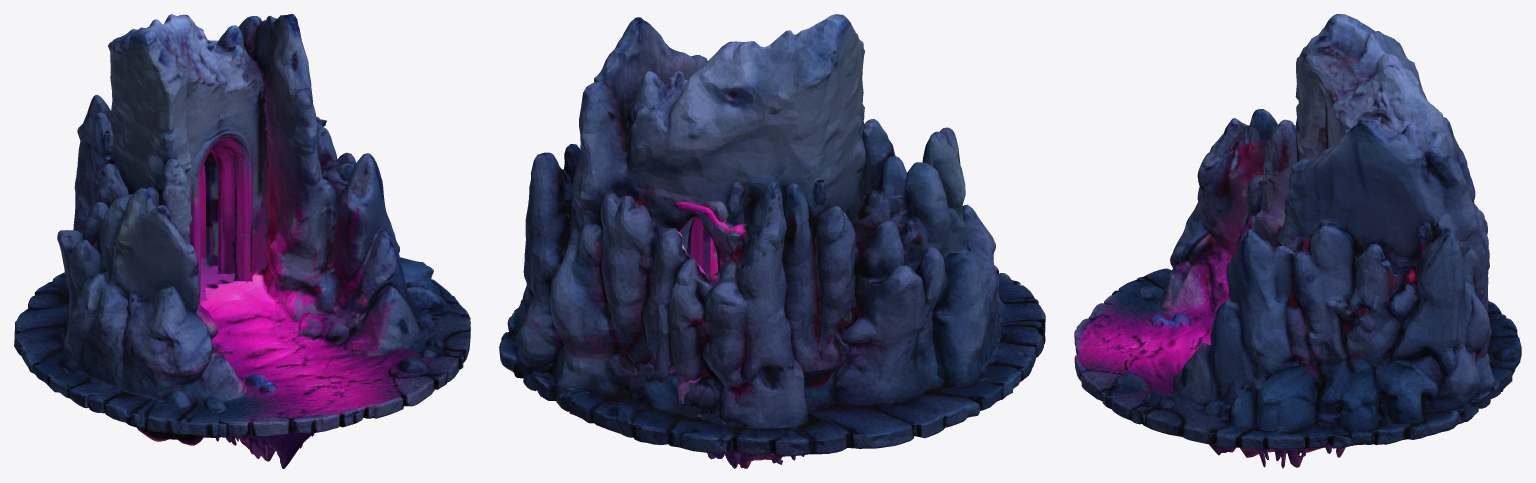
The model's file is island-shelf-generated-2026-04-19T16-35-28-683Z.glb.
3 views of the same model, side by side, from view 1: azimuth 30°, elevation 25°; view 2: azimuth 150°, elevation 25°; view 3: azimuth 270°, elevation 25° (orthographic). The views are drawn at different scales.
Visible parts, largest first — view 1: temp_mesh.ply; view 2: temp_mesh.ply; view 3: temp_mesh.ply.
Boxes of the visible parts, box(x1,y1,x2,y2) form: temp_mesh.ply: box(14, 14, 470, 468); temp_mesh.ply: box(499, 14, 1045, 468); temp_mesh.ply: box(1074, 14, 1521, 468).
Size of the model in its own units: 1.94 by 1.97 by 1.97.
Materials: 1 (1 with a texture image).
